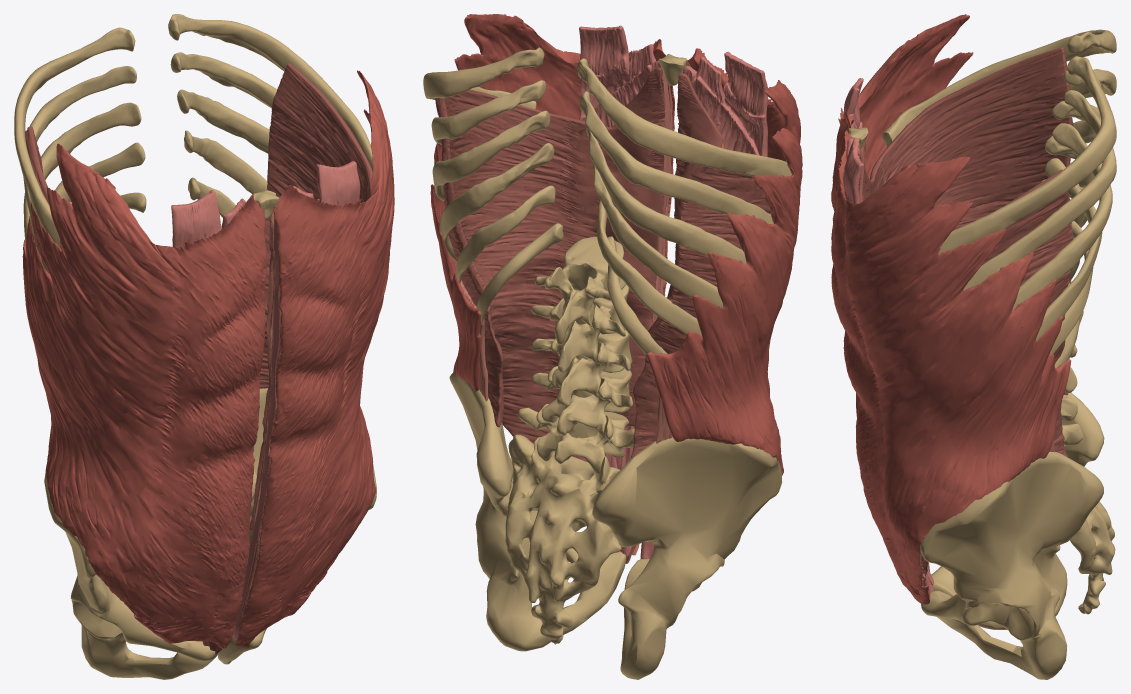
File: abdominal-wall.glb
3 views of the same model, side by side, from view 1: azimuth 30°, elevation 25°; view 2: azimuth 150°, elevation 25°; view 3: azimuth 270°, elevation 25° (orthographic). The views are drawn at different scales.
Parts seen in each view (by area): view 1: FMA13336, FMA13337, FMA22345, FMA16586, FMA13378, FMA8256, FMA8229, FMA8364, FMA13377, FMA8283, FMA8391, FMA8310 (+6 smaller); view 2: FMA22345, FMA13336, FMA16586, FMA16202, FMA16587, FMA13337, FMA22344, FMA13377, FMA13378, FMA8229, FMA8283, FMA13072 (+16 smaller); view 3: FMA13337, FMA16587, FMA22344, FMA13336, FMA8256, FMA8310, FMA22345, FMA16586, FMA8391, FMA8229, FMA16202, FMA8472 (+6 smaller).
Part boxes in pixels (<box>): FMA13336: <box>22,143,266,648</box>; FMA13337: <box>236,70,394,644</box>; FMA22345: <box>235,63,372,648</box>; FMA16586: <box>44,473,218,679</box>; FMA13378: <box>232,161,360,639</box>; FMA8256: <box>168,14,372,171</box>; FMA8229: <box>14,27,135,248</box>; FMA8364: <box>23,102,141,252</box>; FMA13377: <box>171,190,245,646</box>; FMA8283: <box>23,66,136,273</box>; FMA8391: <box>177,89,269,153</box>; FMA8310: <box>170,52,277,108</box>; FMA22345: <box>435,67,664,563</box>; FMA13336: <box>646,48,802,475</box>; FMA16586: <box>592,437,781,679</box>; FMA16202: <box>505,434,621,644</box>; FMA16587: <box>449,371,626,651</box>; FMA13337: <box>430,14,674,553</box>; FMA22344: <box>631,73,771,458</box>; FMA13377: <box>640,51,767,558</box>; FMA13378: <box>579,25,670,556</box>; FMA8229: <box>577,58,792,176</box>; FMA8283: <box>580,91,774,224</box>; FMA13072: <box>534,236,625,344</box>; FMA13337: <box>831,130,1071,604</box>; FMA16587: <box>920,452,1103,679</box>; FMA22344: <box>864,47,1073,395</box>; FMA13336: <box>831,14,1071,417</box>; FMA8256: <box>938,56,1116,253</box>; FMA8310: <box>963,90,1116,290</box>; FMA22345: <box>858,146,1073,582</box>; FMA16586: <box>931,392,1104,629</box>; FMA8391: <box>1012,123,1112,310</box>; FMA8229: <box>882,29,1116,147</box>; FMA16202: <box>1069,501,1115,614</box>; FMA8472: <box>1036,158,1102,340</box>.
Bounding box in the file's own units: 2.78 × 5.02 × 2.14.
